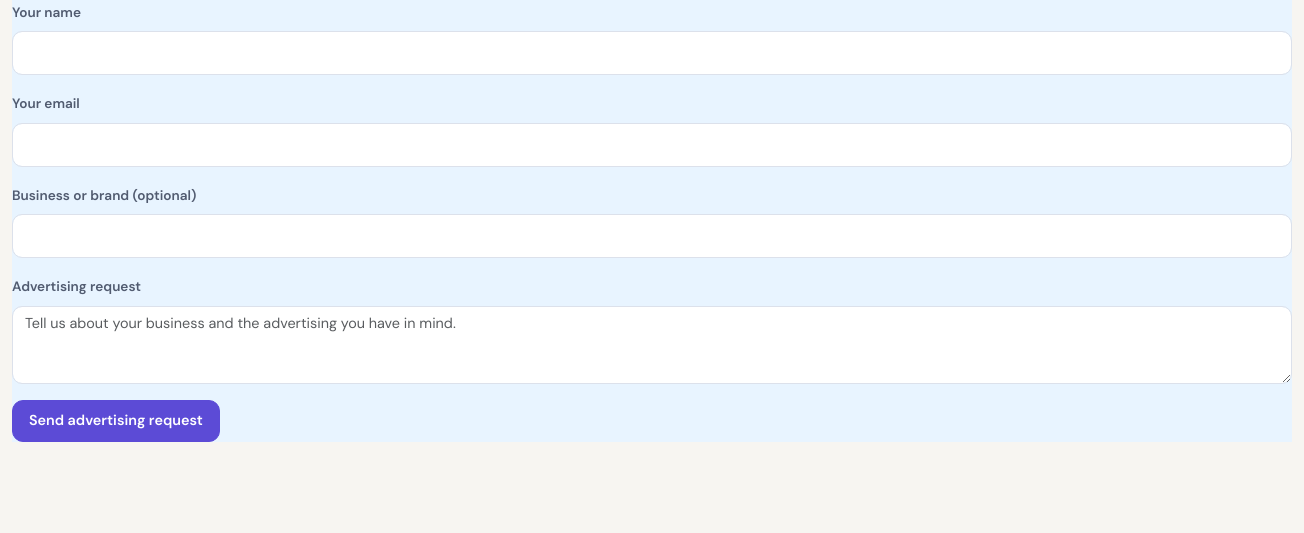
Scenario: sends an advertising inquiry to the portal rather than opening a mail draft
Type "Alex" into the field labelled "Your name" at (652, 53), box x1=12 y1=31 x2=1292 y2=75
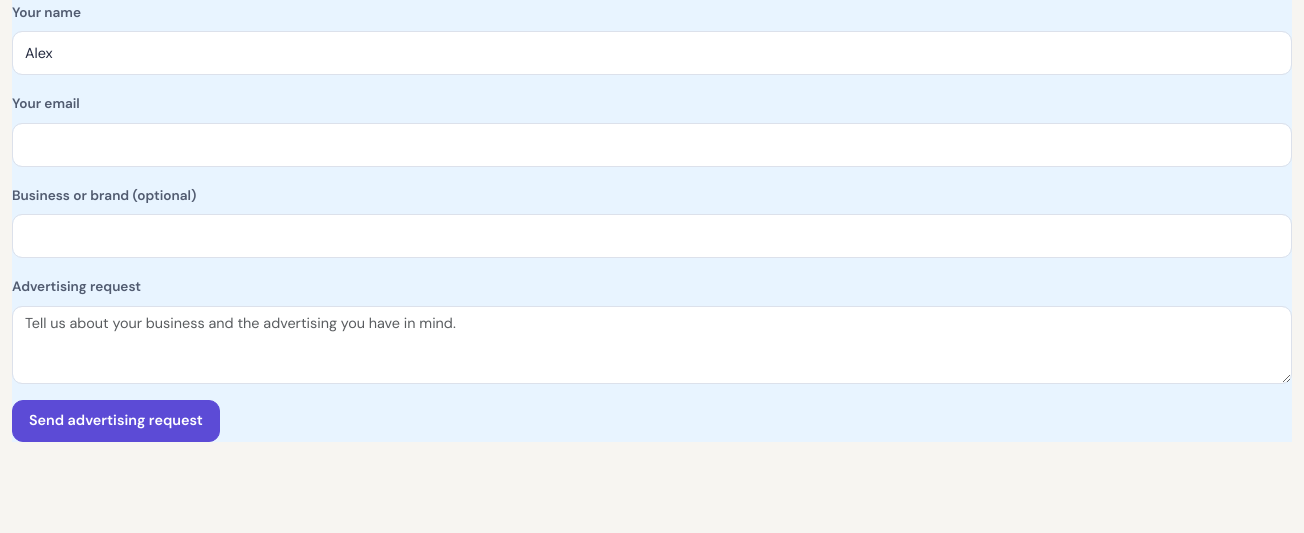
Type "alex@example.com" into the field labelled "Your email" at (652, 145), box x1=12 y1=123 x2=1292 y2=167
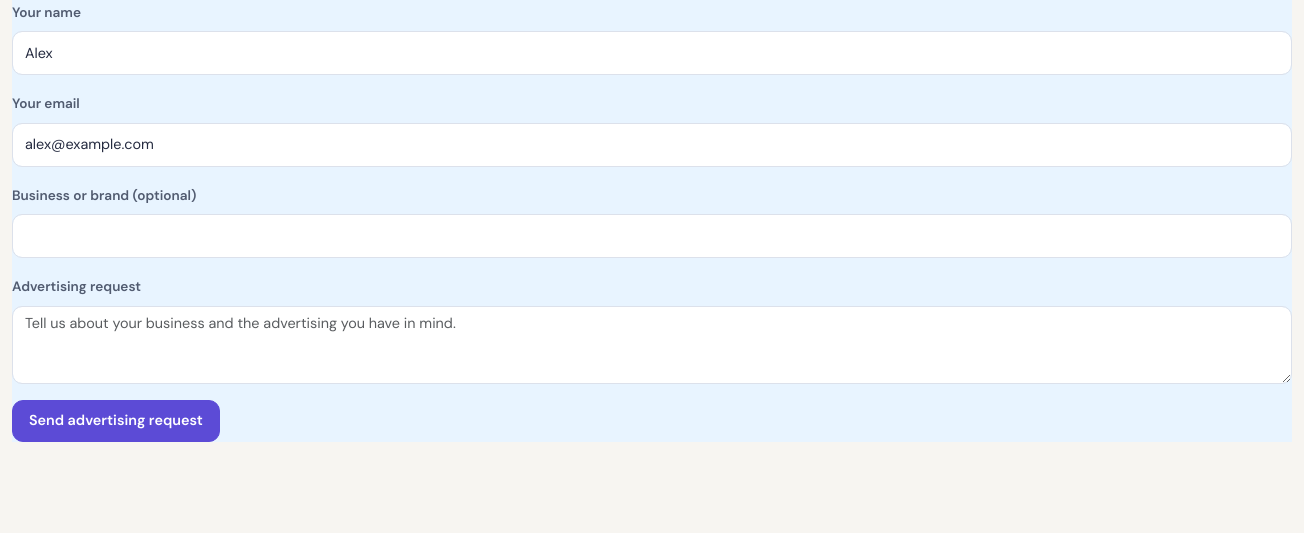
Type "Gift shop" into the field labelled "Business or brand (optional)" at (652, 236), box x1=12 y1=214 x2=1292 y2=258
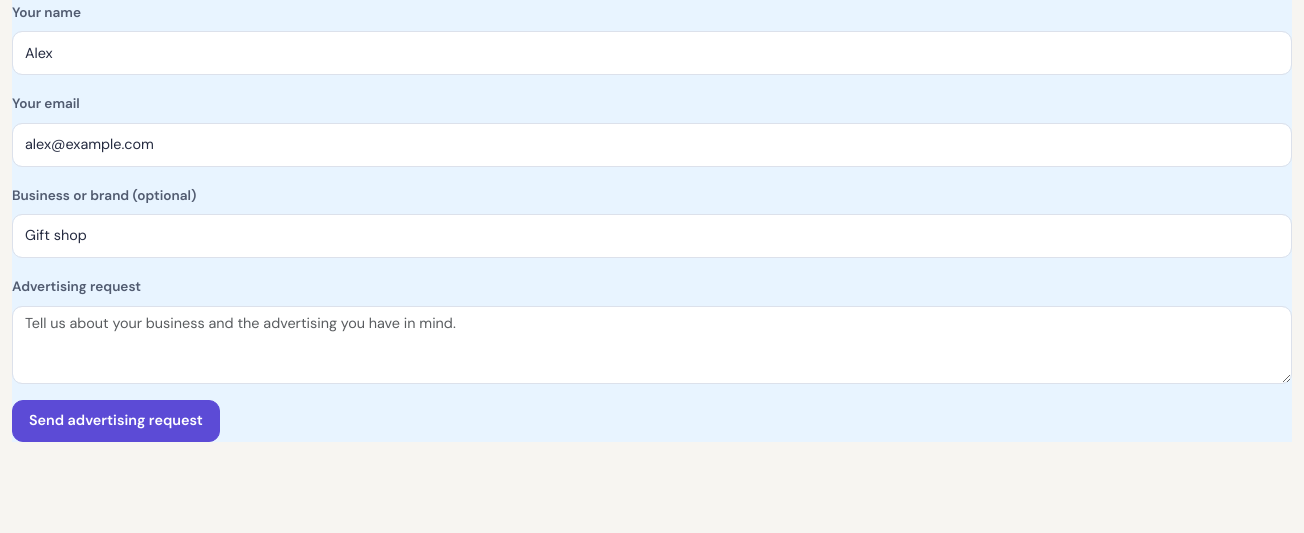
Replace the text in the text box labelled "Advertising request" with "I would like to advertise a holiday sale." at (652, 345), box x1=12 y1=306 x2=1292 y2=384
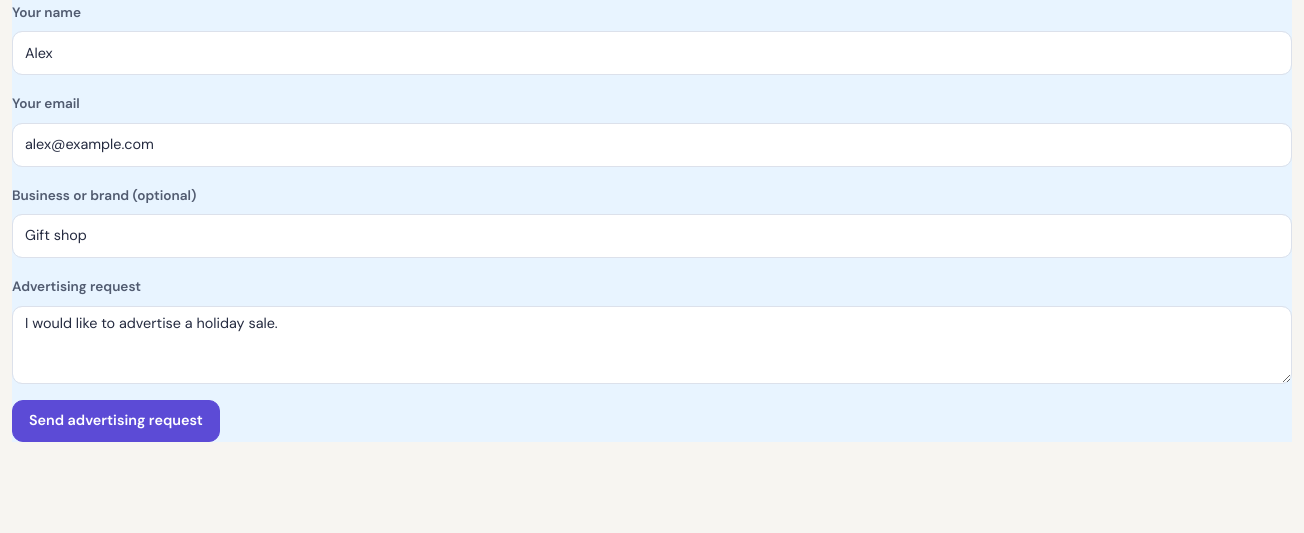
Click the button "Send advertising request" at (116, 421), box x1=12 y1=400 x2=220 y2=442
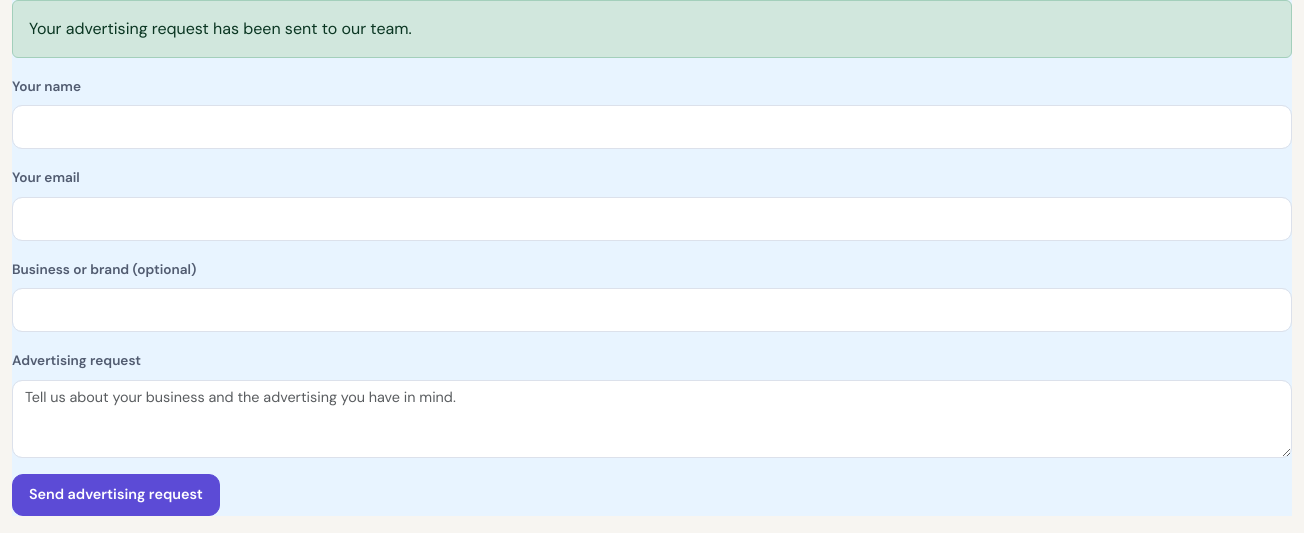
Result: the text "Your advertising request has been sent to our team." is shown at x1=12 y1=0 x2=1292 y2=58
Result: the field labelled "Your email" is empty at x1=12 y1=197 x2=1292 y2=241
